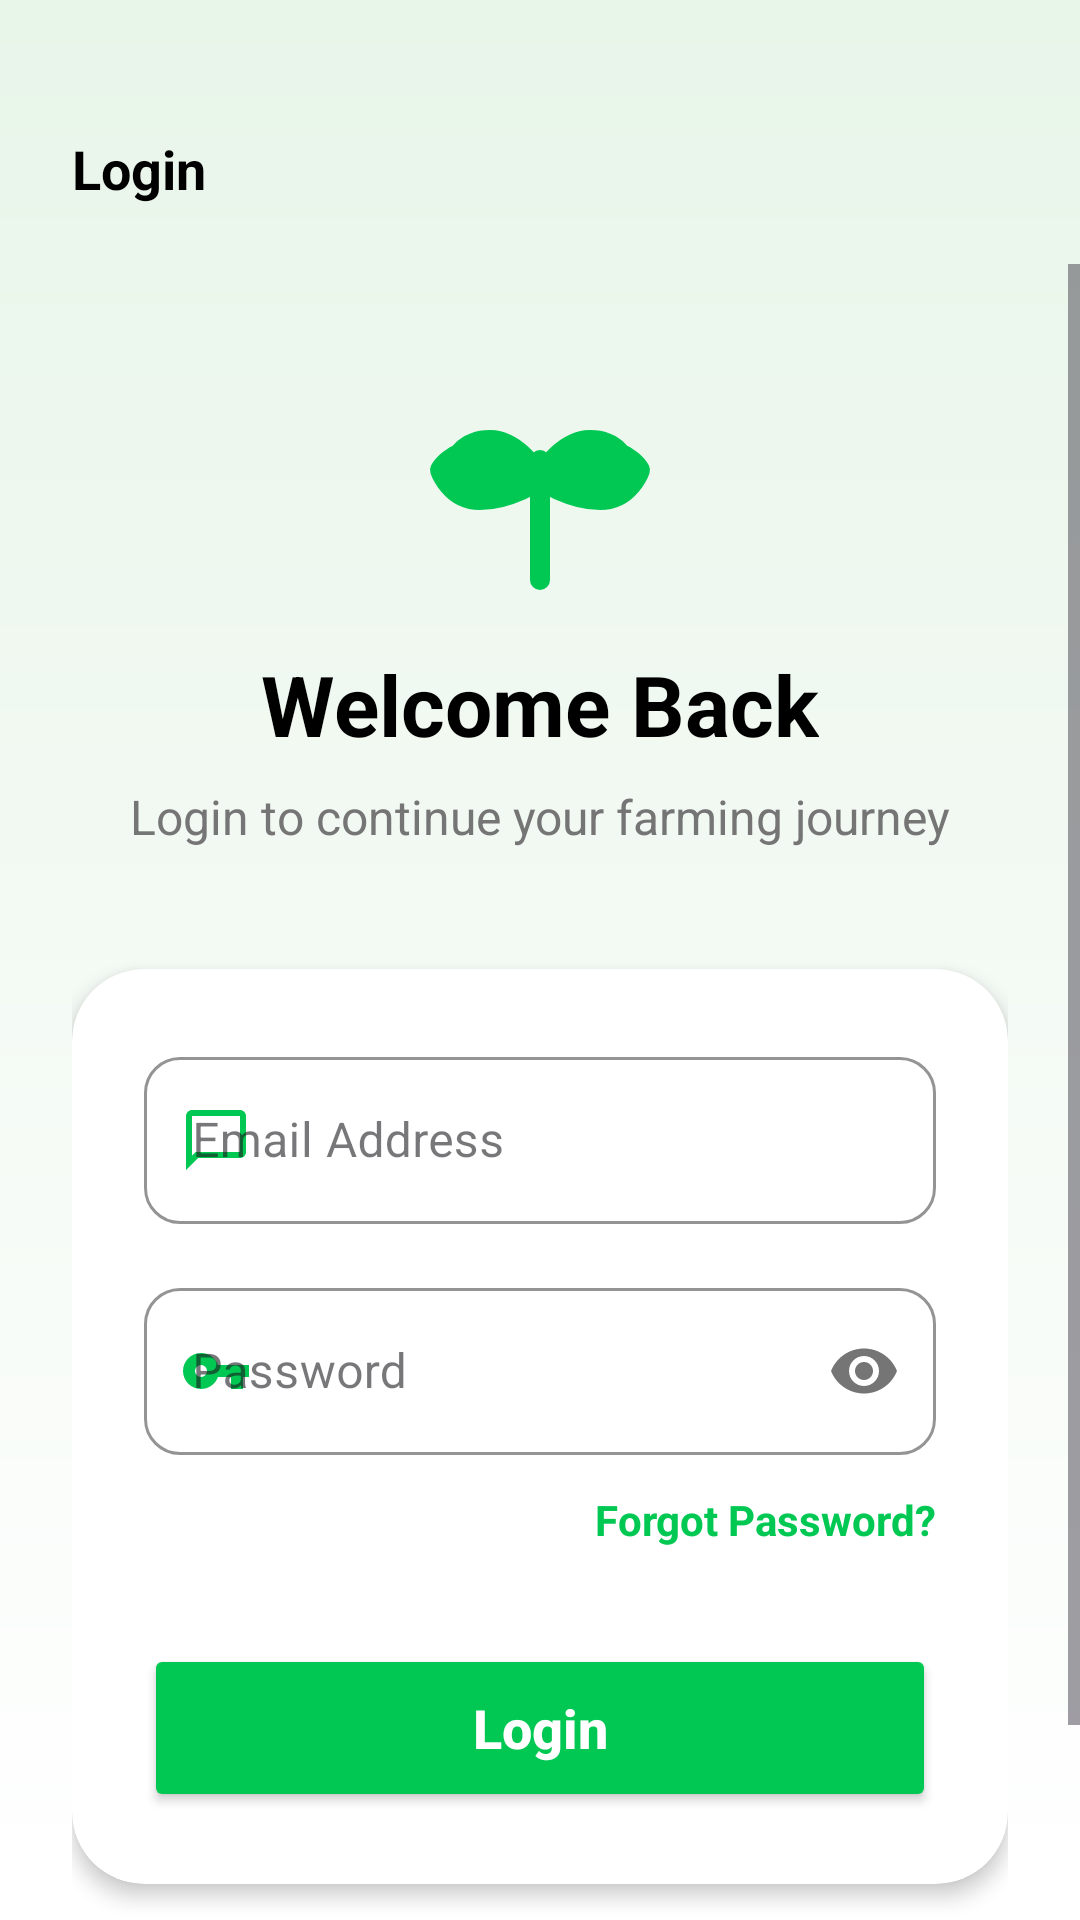

Screen size 1080px x 1920px. Icon name, then its box in pixels as (x1, y1, x2, y2):
seedling: (430, 430, 650, 590)
